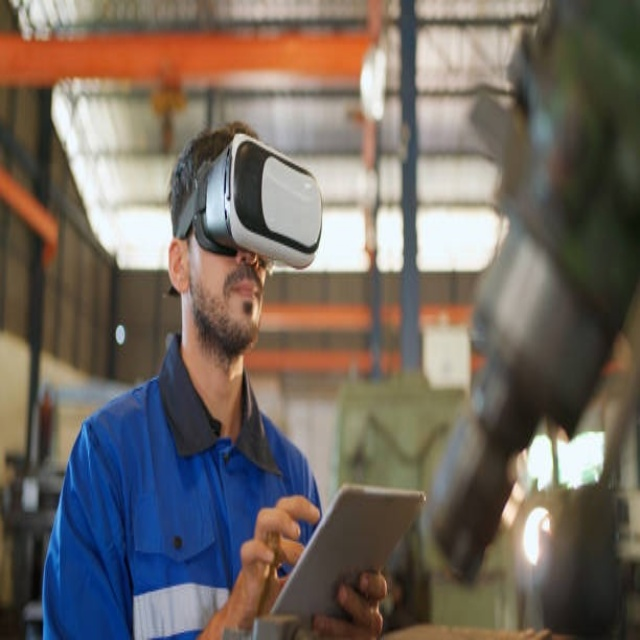Sin_guantes: (221, 492, 321, 631), (313, 566, 389, 640)
Sin_mascara: (220, 273, 266, 329)
